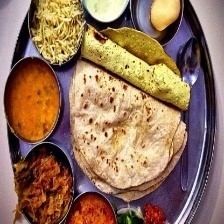dal: (3, 59, 61, 140)
